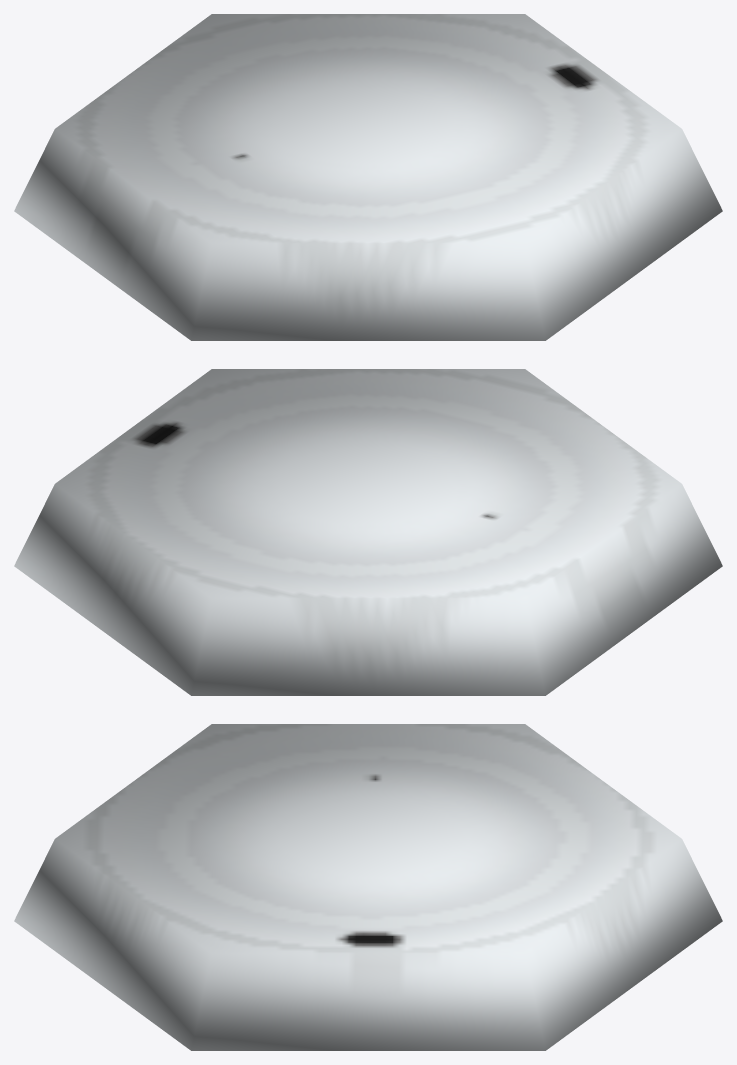
The model's file is coffee_cup_lid.glb.
3 renders of one model, top to bottom at view 1: azimuth 30°, elevation 25°; view 2: azimuth 150°, elevation 25°; view 3: azimuth 270°, elevation 25°, orthographic.
Visible parts, largest first — view 1: Coffee Cup_Lid; view 2: Coffee Cup_Lid; view 3: Coffee Cup_Lid.
Part boxes in pixels (box(x1,y1,x2,y2)): Coffee Cup_Lid: box(14, 14, 722, 340); Coffee Cup_Lid: box(14, 369, 722, 695); Coffee Cup_Lid: box(14, 724, 722, 1050).
Size of the model in its own units: 0.2623 by 0.0425 by 0.3029.
1 material, 1 textured.
